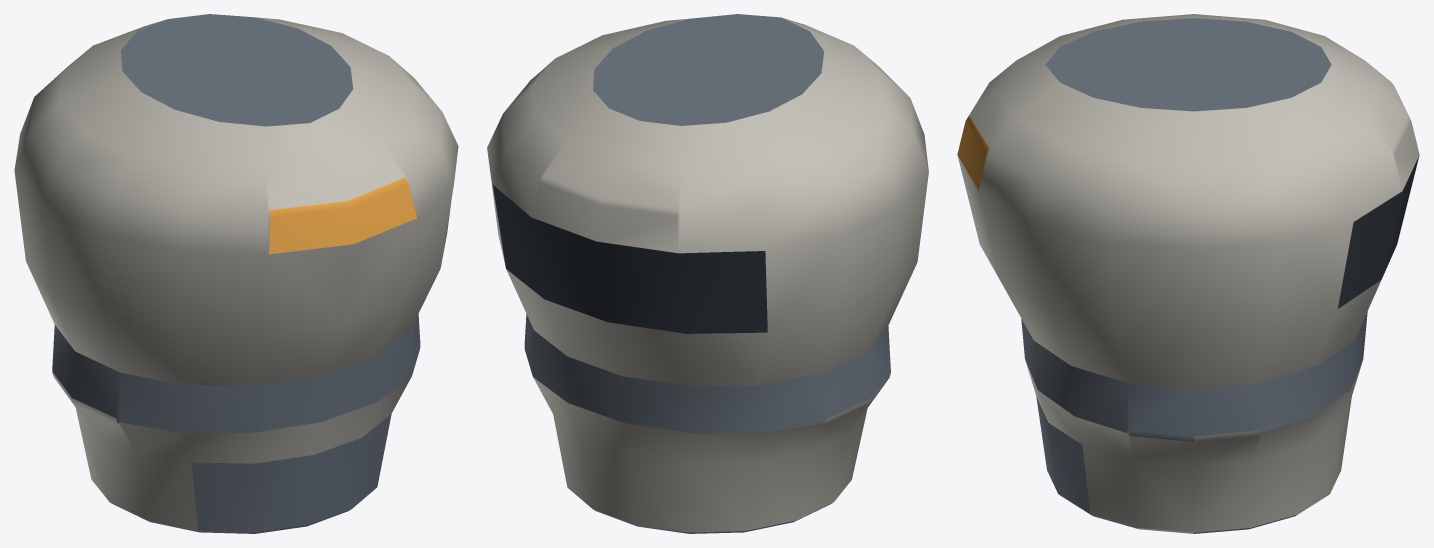
The model's file is torso_medium.glb.
The picture shows the model from 3 angles, left to right: view 1: azimuth 30°, elevation 25°; view 2: azimuth 150°, elevation 25°; view 3: azimuth 270°, elevation 25°; orthographic projection.
Parts seen in each view (by area): view 1: torso_medium; view 2: torso_medium; view 3: torso_medium.
Boxes of the visible parts, bbox=[...] form: torso_medium: bbox=[14, 14, 458, 533]; torso_medium: bbox=[487, 14, 928, 533]; torso_medium: bbox=[957, 14, 1419, 533].
Size of the model in its own units: 1 by 1 by 1.02.
